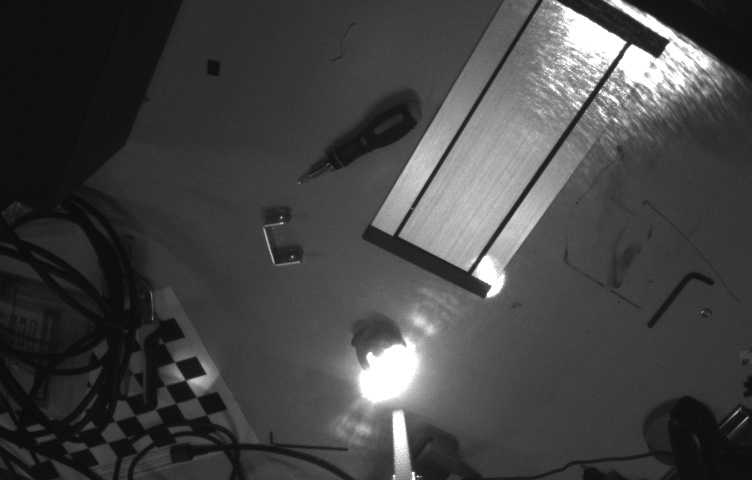Object rubber duck - Material rubber -Color blue - Pdfname BWuUnwTLudUE: (359, 344, 396, 380)
